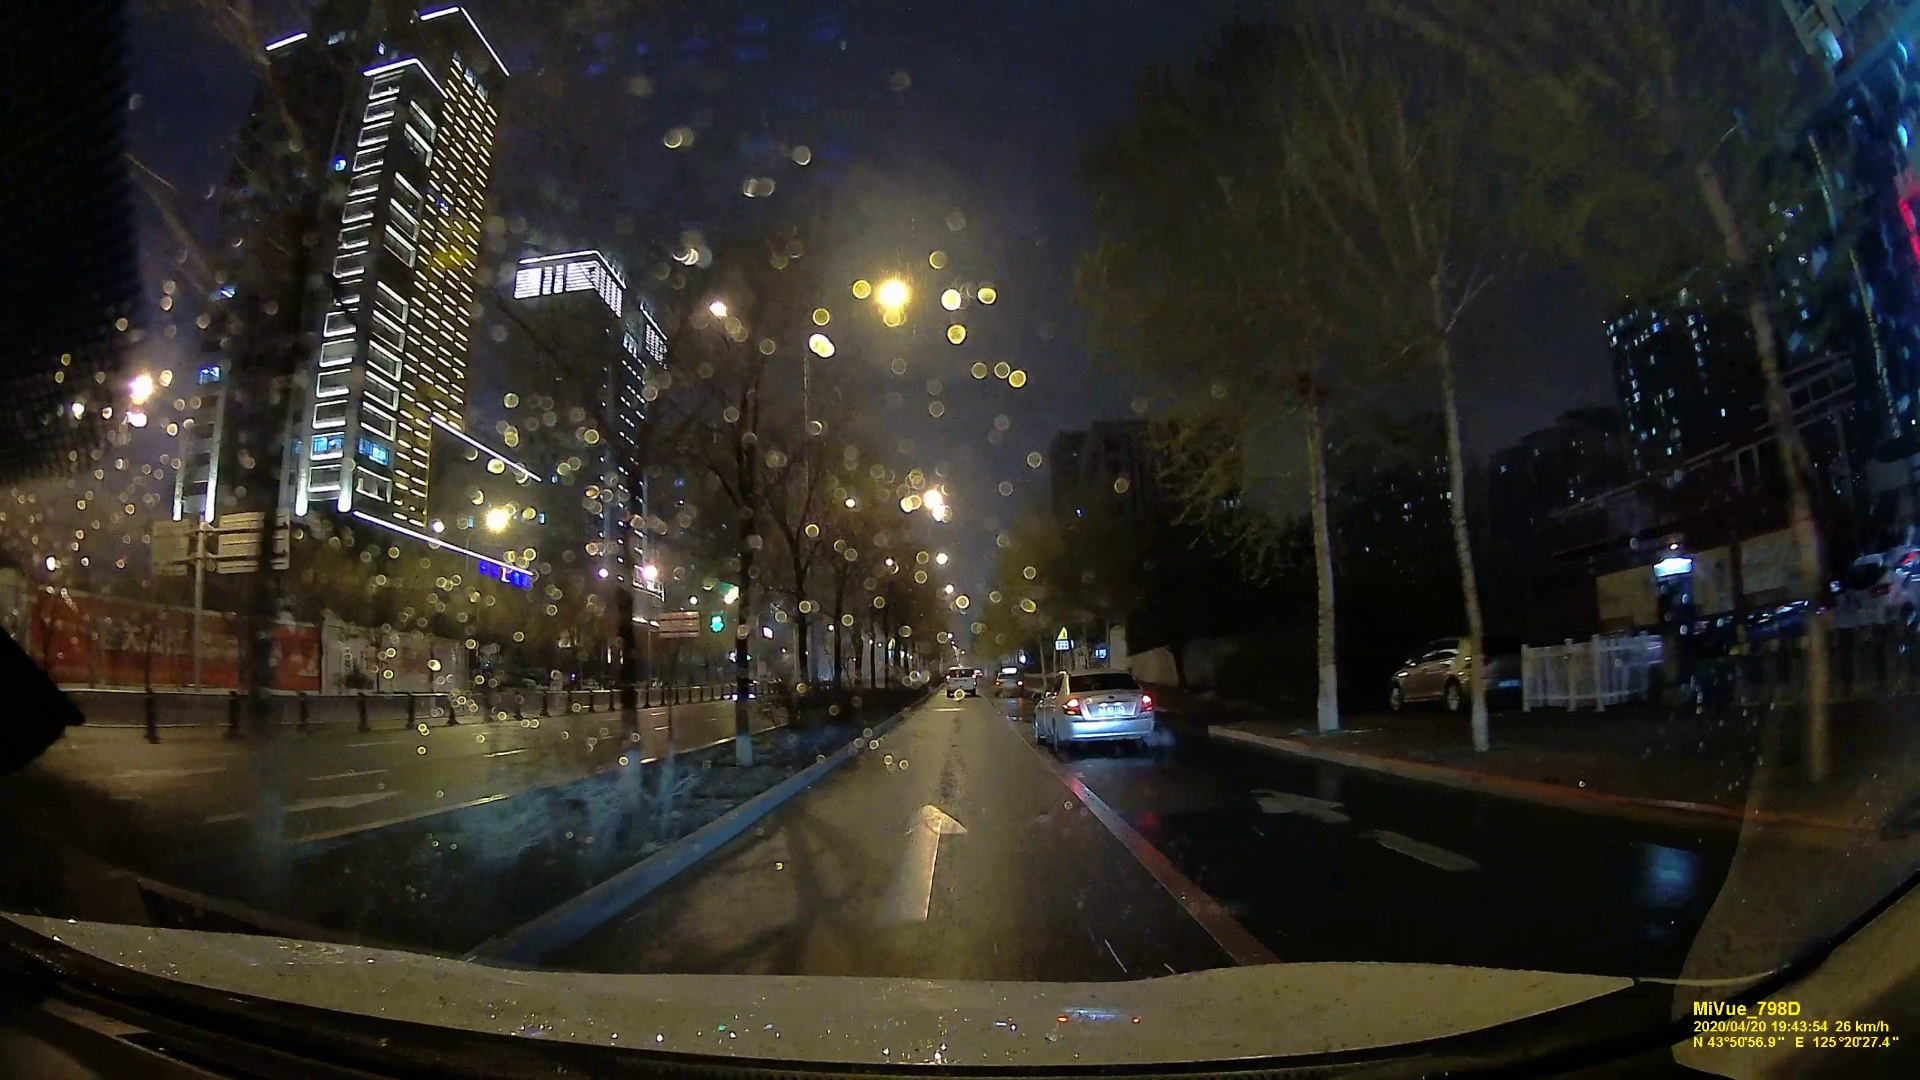traffic_sign: (1054, 626, 1075, 651)
vehicle: (1035, 673, 1153, 752), (945, 669, 977, 696), (993, 670, 1025, 698)
